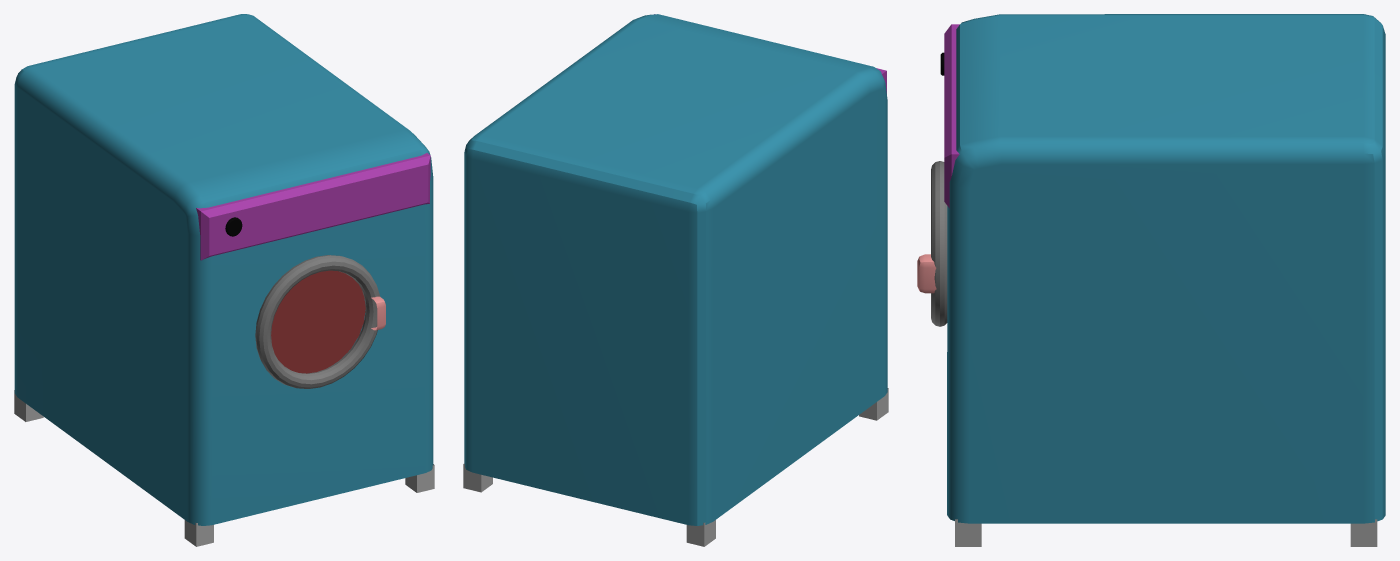
File: lavadora.fbx
The picture shows the model from 3 angles, left to right: view 1: azimuth 30°, elevation 25°; view 2: azimuth 150°, elevation 25°; view 3: azimuth 270°, elevation 25°; orthographic projection. The views are drawn at different scales.
Visible parts, largest first — view 1: Lavadora; view 2: Lavadora; view 3: Lavadora.
Boxes of the visible parts, x1=… form: Lavadora: x1=14, y1=14, x2=434, y2=546; Lavadora: x1=463, y1=14, x2=888, y2=546; Lavadora: x1=917, y1=14, x2=1385, y2=546.
Bounding box in the file's own units: 58.64 × 80.11 × 84.35.
